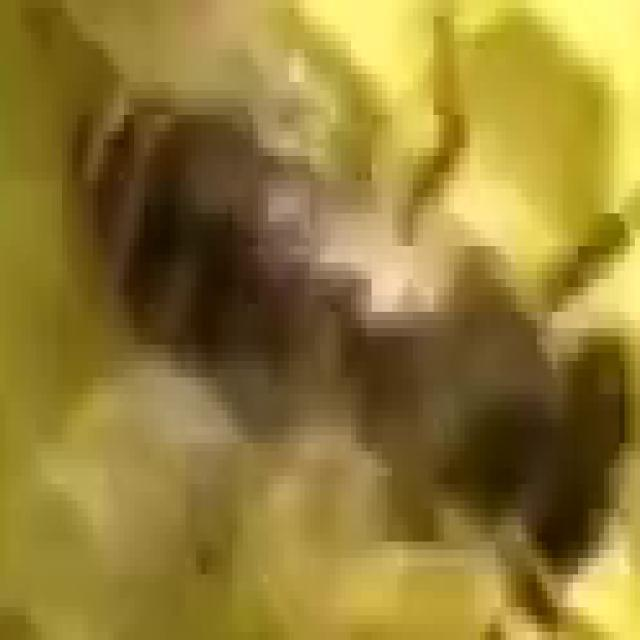honeybee: (76, 106, 640, 584)
